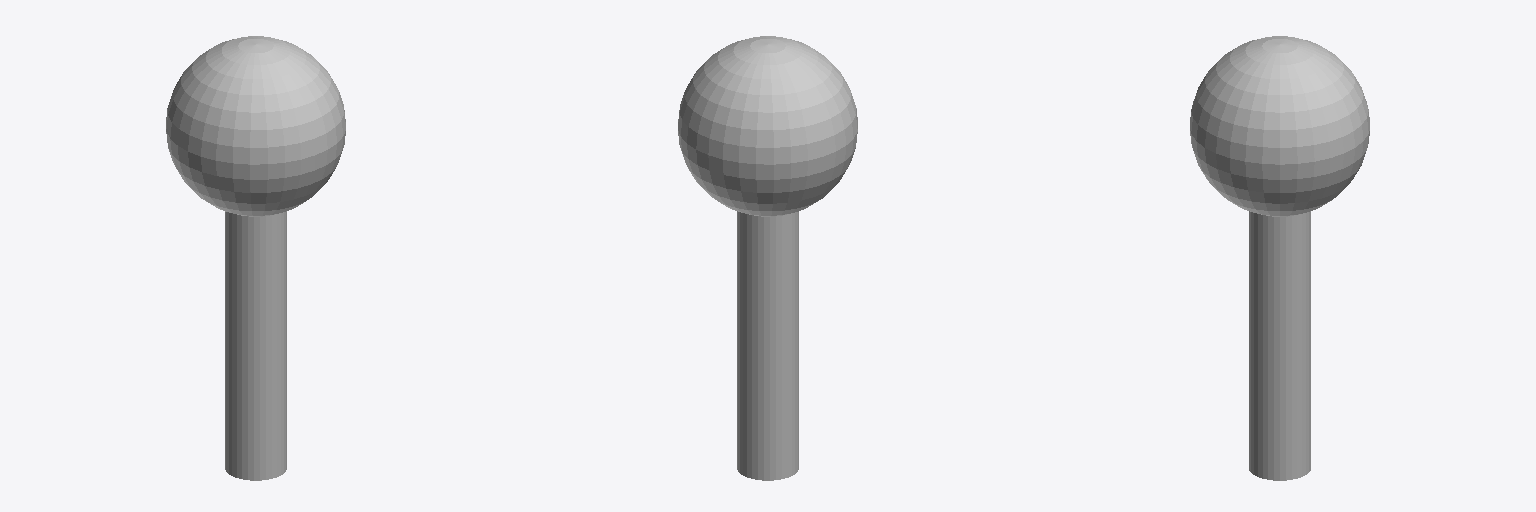
File: derpLamp.obj
3 views of the same model, side by side, from view 1: azimuth 30°, elevation 25°; view 2: azimuth 150°, elevation 25°; view 3: azimuth 270°, elevation 25° (orthographic).
Visible parts, largest first — view 1: Sphere; view 2: Sphere; view 3: Sphere.
Boxes of the visible parts, x1=… form: Sphere: x1=166, y1=36, x2=345, y2=480; Sphere: x1=678, y1=36, x2=857, y2=480; Sphere: x1=1190, y1=36, x2=1369, y2=480.
Size of the model in its own units: 2 by 5.16 by 2.